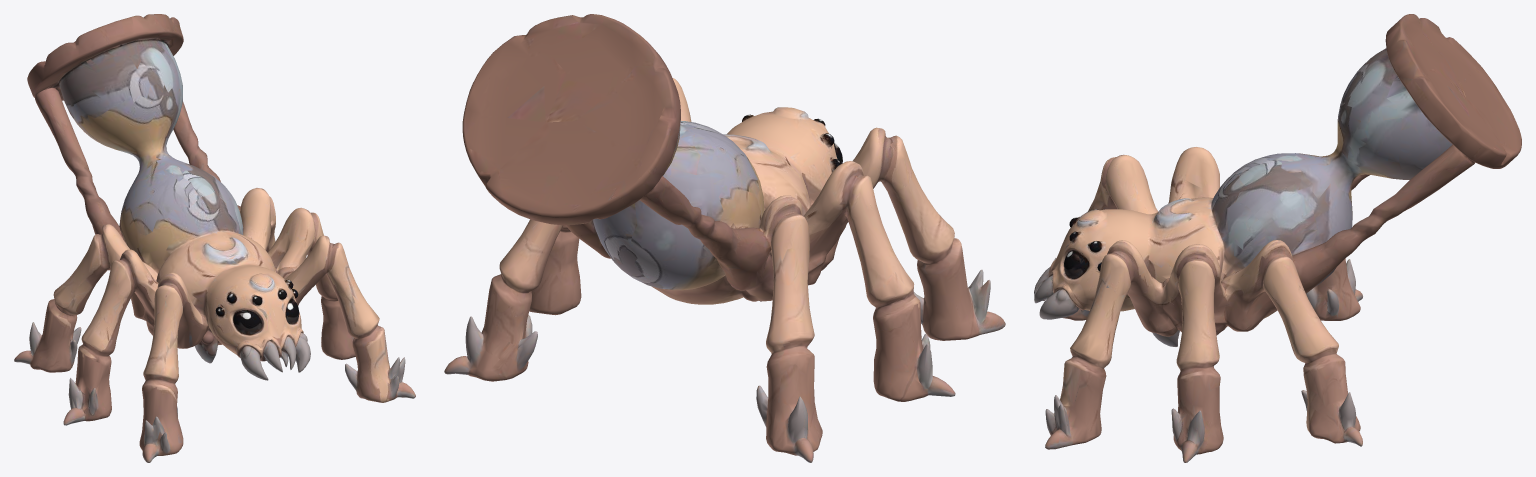
3 views of the same model, side by side, from view 1: azimuth 30°, elevation 25°; view 2: azimuth 150°, elevation 25°; view 3: azimuth 270°, elevation 25° (orthographic). The views are drawn at different scales.
Parts seen in each view (by area): view 1: Mesh_0; view 2: Mesh_0; view 3: Mesh_0.
Boxes of the visible parts, <box> form: Mesh_0: <box>14,14,415,462</box>; Mesh_0: <box>444,14,1005,462</box>; Mesh_0: <box>1034,14,1521,462</box>.
Size of the model in its own units: 1.65 by 1.51 by 1.91.
1 material, 1 textured.
